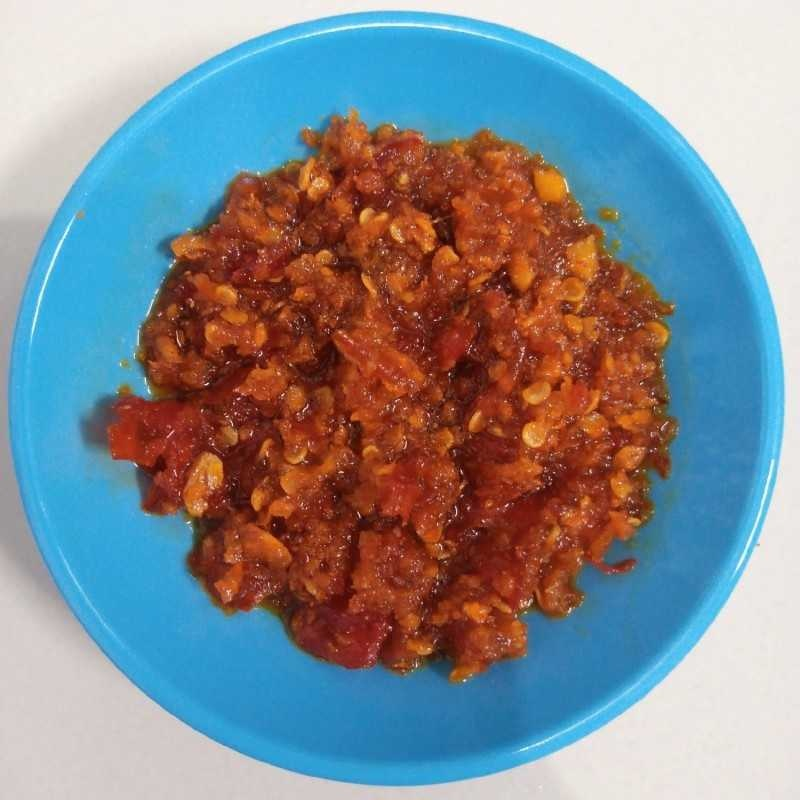sambal: (99, 112, 676, 684)
